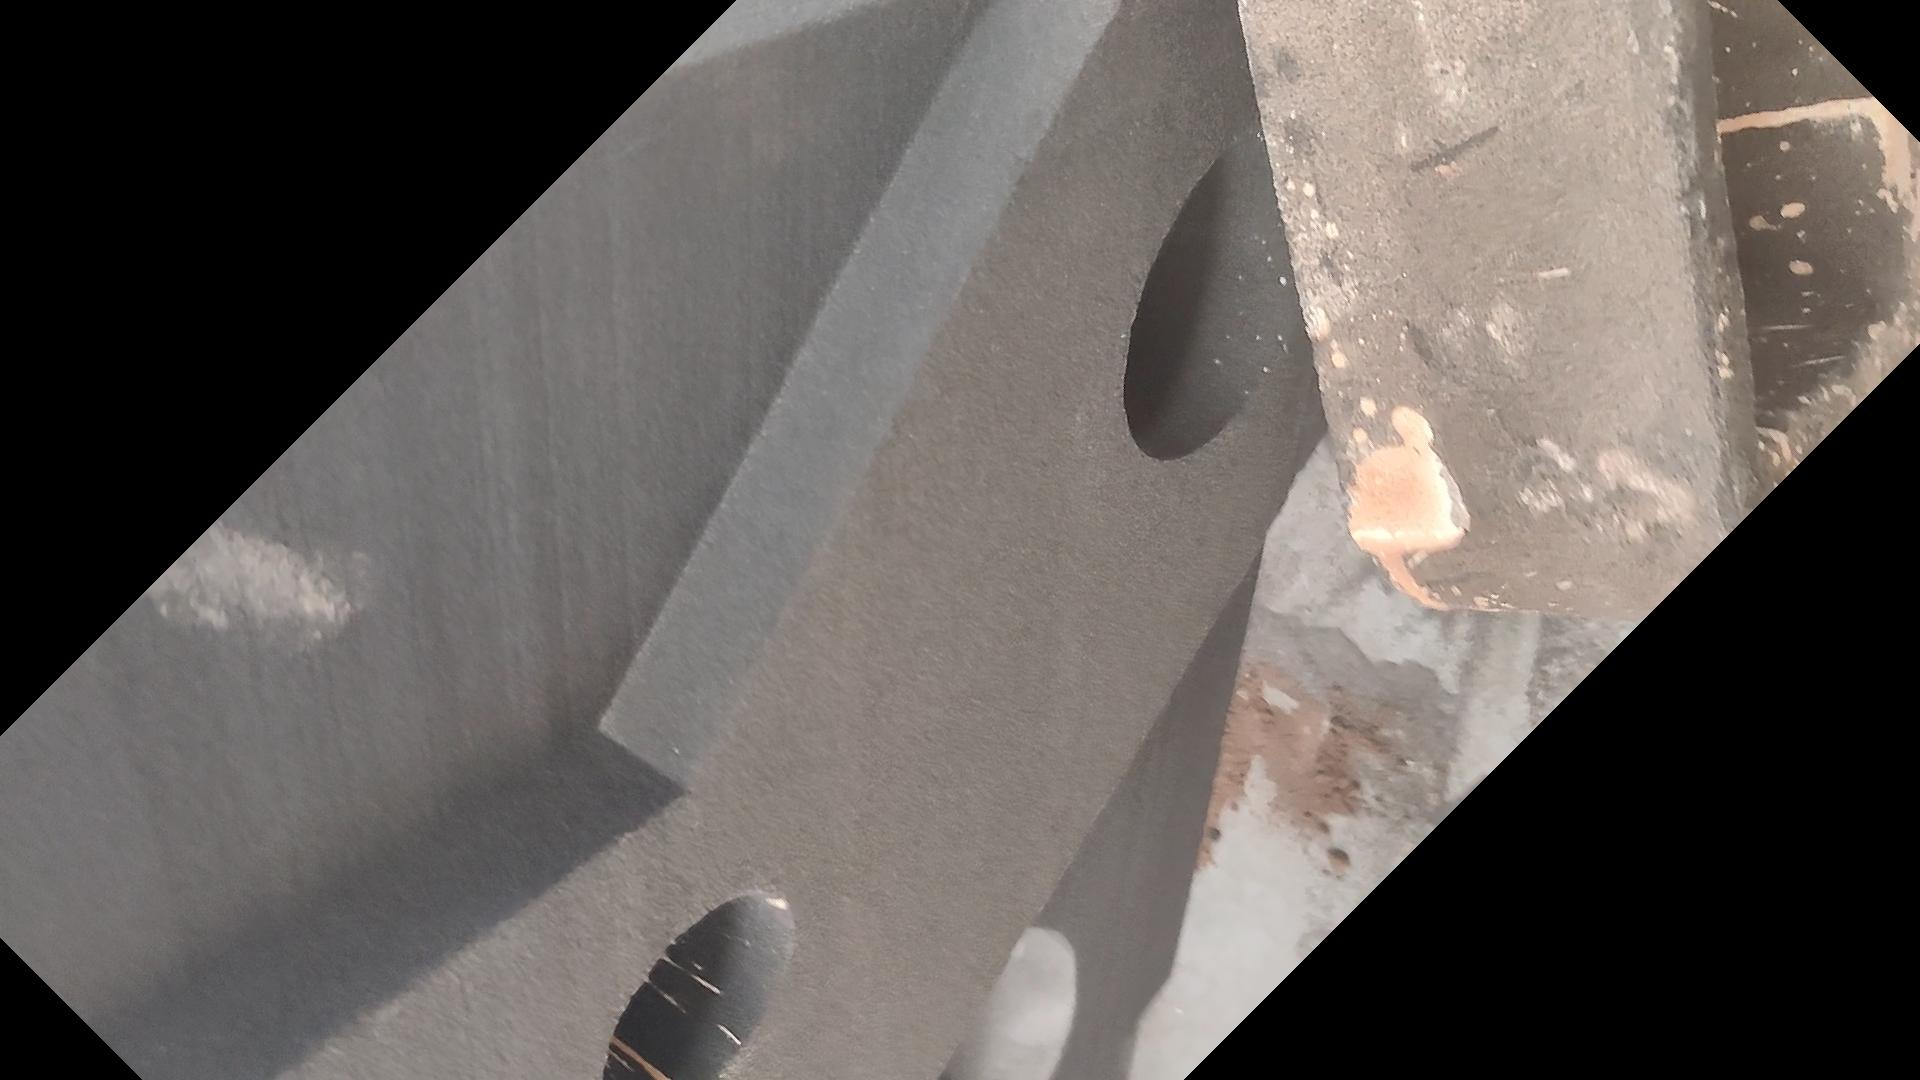pouring hole: (1125, 127, 1354, 462)
